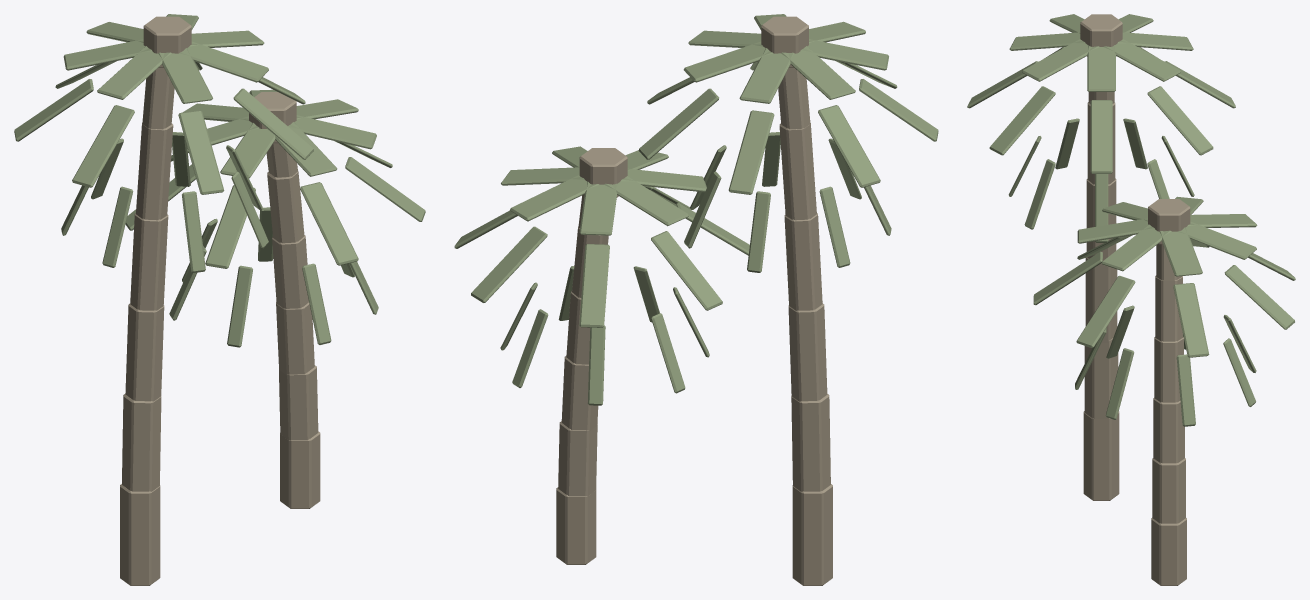
The model's file is TC_ENV_PalmCluster_V1.glb.
The picture shows the model from 3 angles, left to right: view 1: azimuth 30°, elevation 25°; view 2: azimuth 150°, elevation 25°; view 3: azimuth 270°, elevation 25°; orthographic projection. The views are drawn at different scales.
Parts seen in each view (by area): view 1: TC_ENV_PalmCluster_V1; view 2: TC_ENV_PalmCluster_V1; view 3: TC_ENV_PalmCluster_V1.
Part boxes in pixels (box(x1,y1,x2,y2)): TC_ENV_PalmCluster_V1: box(14, 14, 425, 585); TC_ENV_PalmCluster_V1: box(454, 14, 938, 585); TC_ENV_PalmCluster_V1: box(967, 14, 1295, 585).
Bounding box in the file's own units: 4.82 × 6.33 × 3.89.
